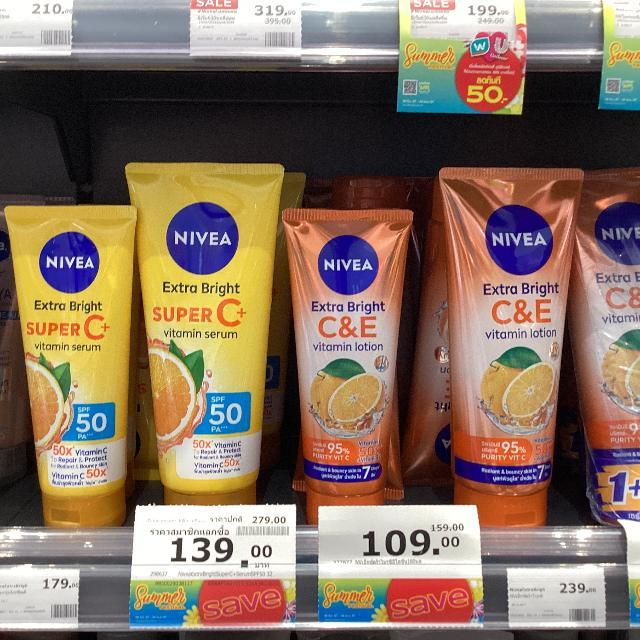Squeeze Tube: (124, 136, 276, 501), (426, 154, 568, 522), (0, 184, 142, 540), (280, 207, 418, 516), (571, 166, 640, 519)
